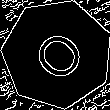O_SE: (23, 21, 91, 87)
